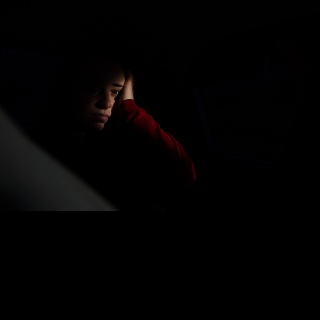without_mask: (70, 60, 124, 130)
